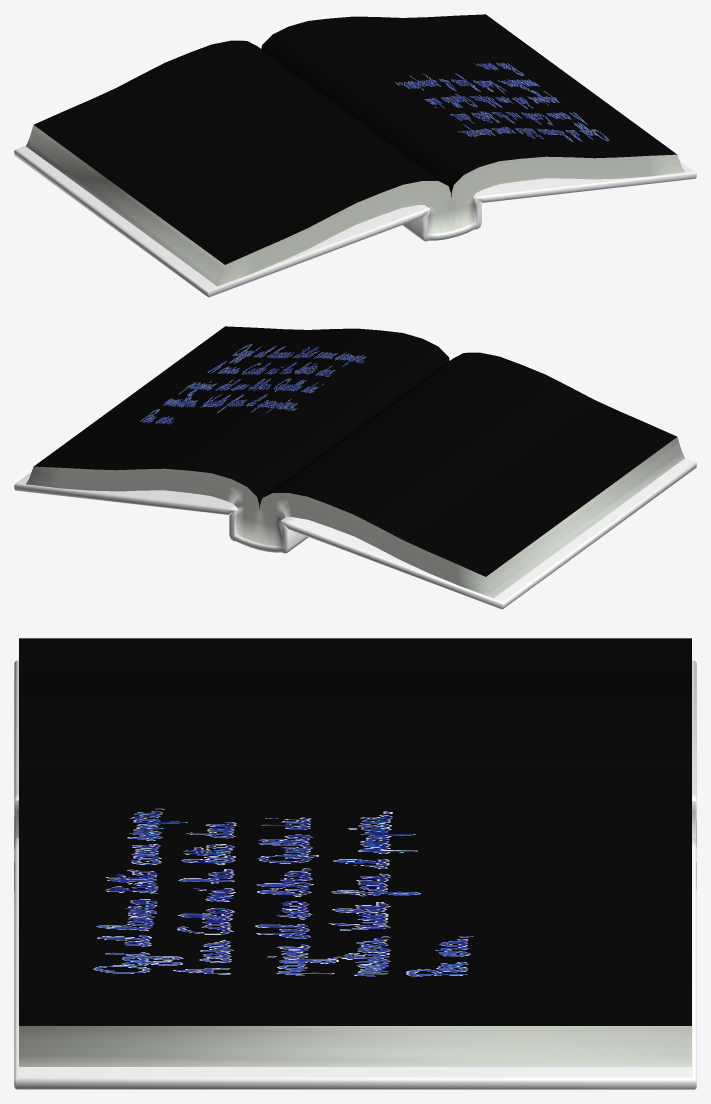
Rendered from diario-past.glb.
3 views of the same model, one above another, from view 1: azimuth 30°, elevation 25°; view 2: azimuth 150°, elevation 25°; view 3: azimuth 270°, elevation 25° (orthographic). The views are drawn at different scales.
Parts seen in each view (by area): view 1: cover_past.001; view 2: cover_past.001; view 3: cover_past.001.
Part boxes in pixels (x1,y1,x2,y2): cover_past.001: [14, 14, 696, 297]; cover_past.001: [14, 326, 696, 609]; cover_past.001: [14, 638, 696, 1089].
Size of the model in its own units: 1.25 by 0.1611 by 0.8617.
Materials: 3 (2 with a texture image).
